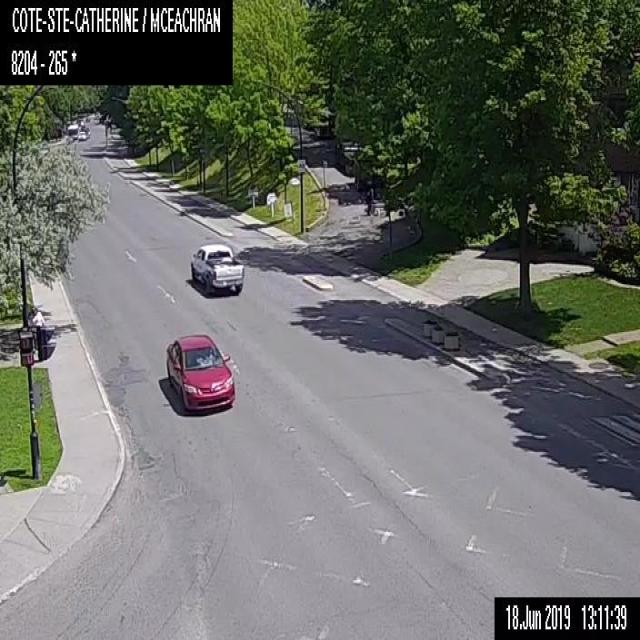bus: (67, 123, 78, 138)
pedestrian: (365, 187, 373, 214)
vehicle: (164, 329, 233, 412), (189, 240, 243, 293), (353, 156, 383, 199), (334, 136, 362, 174), (77, 130, 86, 140), (82, 126, 89, 136)
